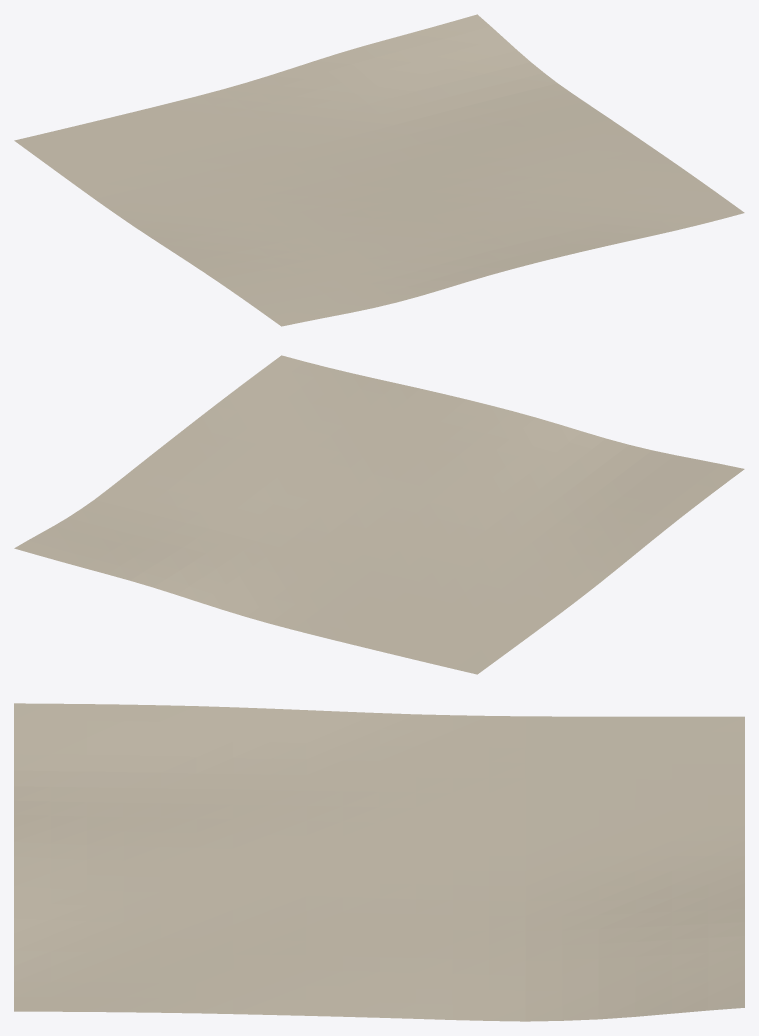
Rendered from bolak_-24_7.glb.
The picture shows the model from 3 angles, top to bottom: view 1: azimuth 30°, elevation 25°; view 2: azimuth 150°, elevation 25°; view 3: azimuth 270°, elevation 25°; orthographic projection. The views are drawn at different scales.
Visible parts, largest first — view 1: Yer_Tuproq-col; view 2: Yer_Tuproq-col; view 3: Yer_Tuproq-col.
Boxes of the visible parts, box(x1,y1,x2,y2) form: Yer_Tuproq-col: box(14, 14, 744, 326); Yer_Tuproq-col: box(14, 355, 744, 674); Yer_Tuproq-col: box(14, 703, 744, 1021).
Bounding box in the file's own units: 400 × 11.31 × 400.
